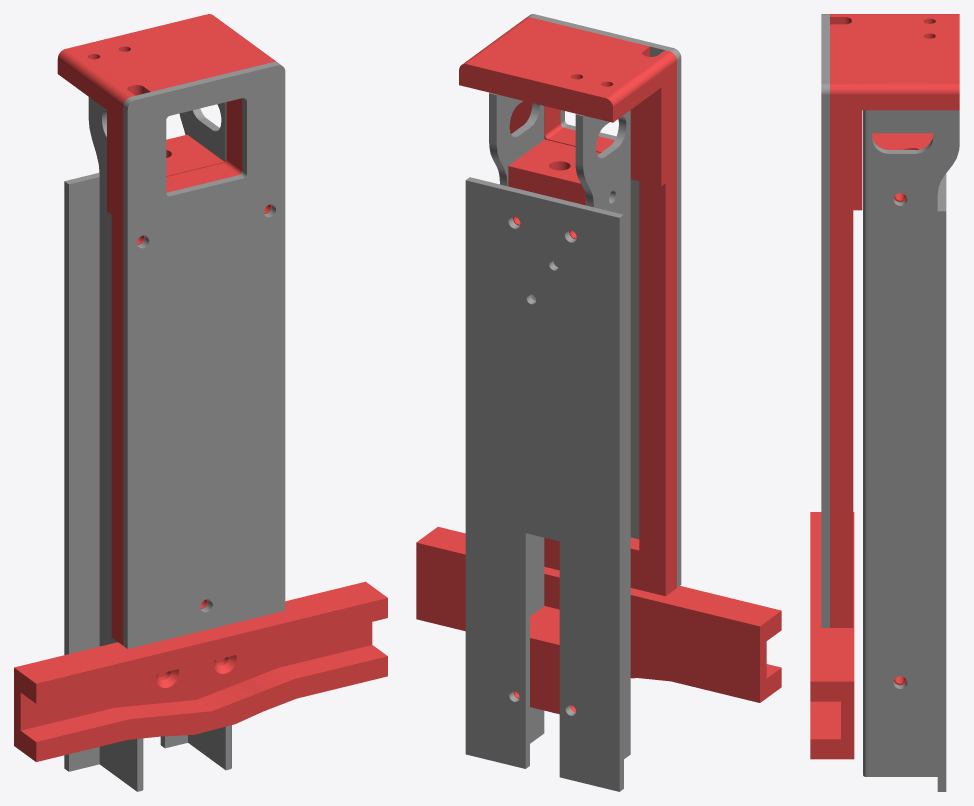
The model's file is Robot_2_Pusher.gltf.
The picture shows the model from 3 angles, left to right: view 1: azimuth 30°, elevation 25°; view 2: azimuth 150°, elevation 25°; view 3: azimuth 270°, elevation 25°; orthographic projection. The views are drawn at different scales.
Visible parts, largest first — view 1: Robot_2_Pusher; view 2: Robot_2_Pusher; view 3: Robot_2_Pusher.
Part boxes in pixels (x1,y1,x2,y2): Robot_2_Pusher: [14, 14, 387, 791]; Robot_2_Pusher: [416, 14, 781, 791]; Robot_2_Pusher: [810, 14, 959, 791].
Bounding box in the file's own units: 9.15 × 17.72 × 3.4.
